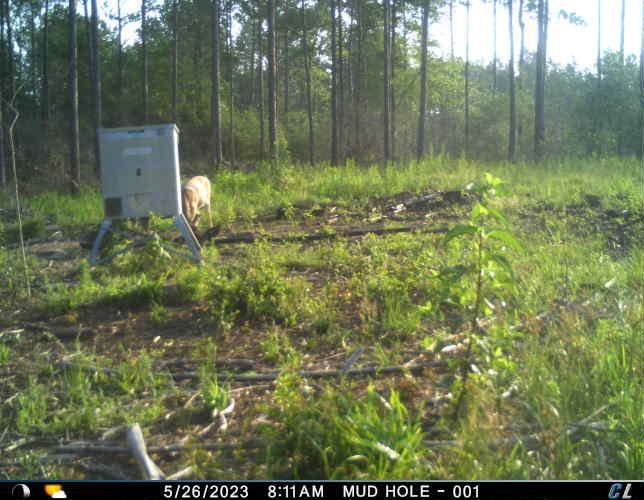Deer: (182, 173, 216, 232)
